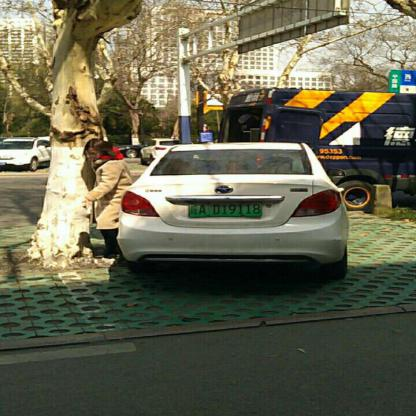lp: (188, 200, 262, 219)
